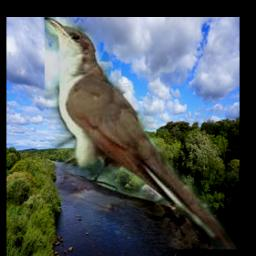Cuckoo: (44, 17, 236, 250)
